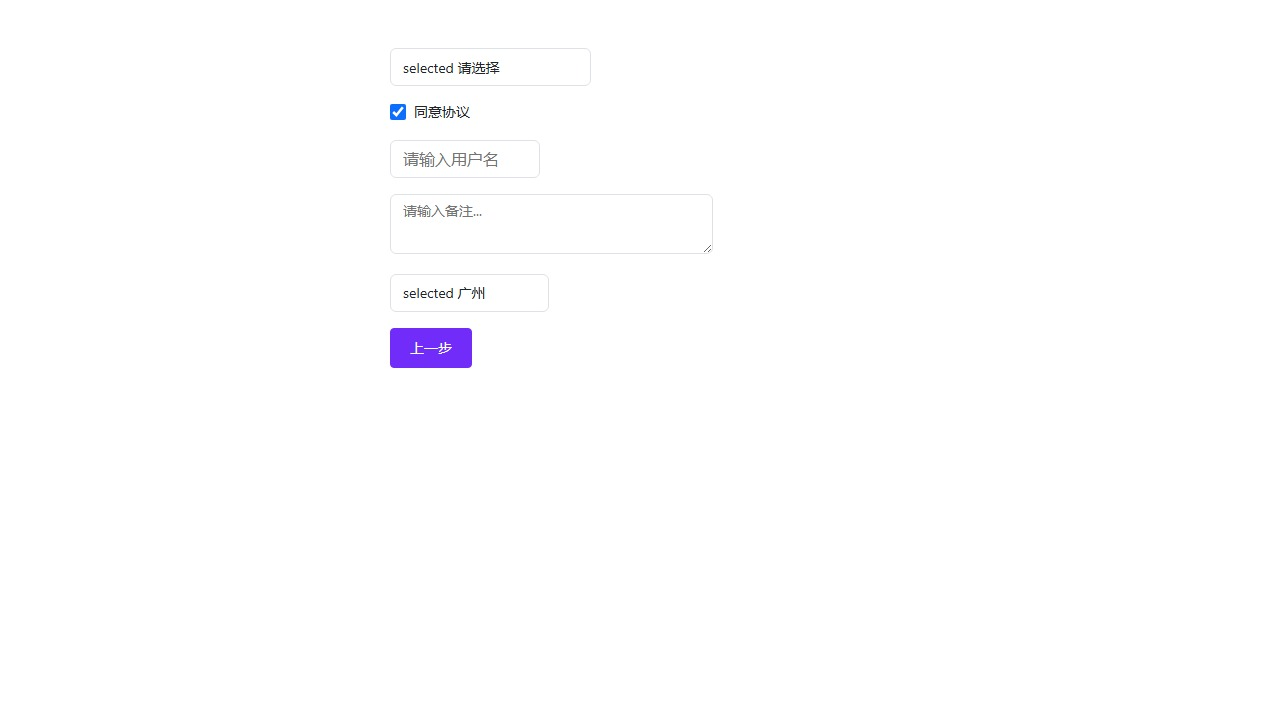button: (390, 327, 472, 368)
checkbox: (390, 103, 406, 119)
icon: (414, 102, 470, 121)
input: (390, 140, 540, 178)
radio: (390, 102, 470, 121)
select: (390, 48, 591, 86), (390, 273, 549, 312)
textarea: (390, 194, 713, 254)
